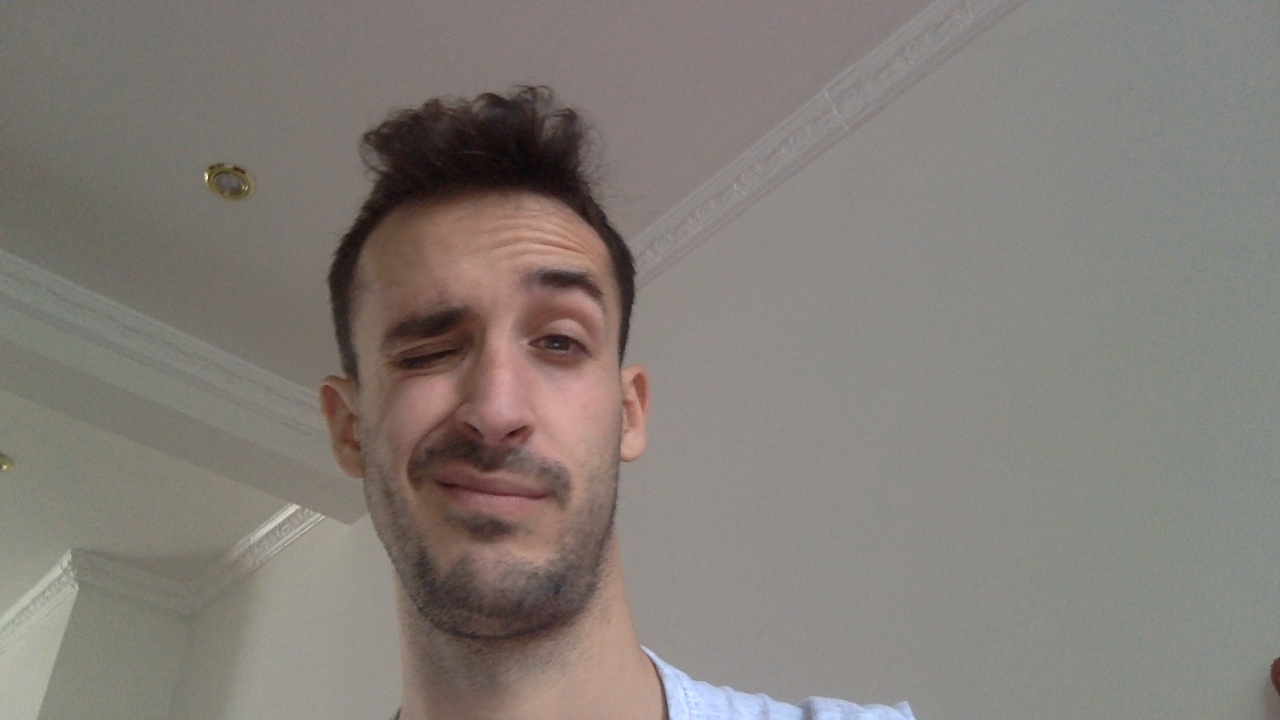wink: (386, 321, 473, 383)
